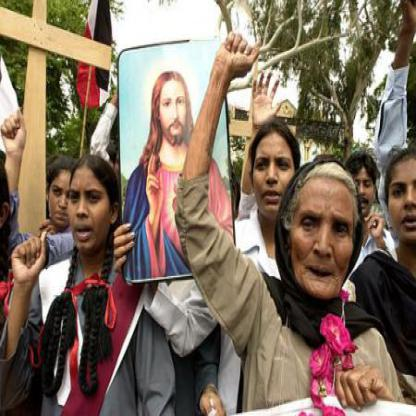face: (289, 165, 361, 301), (66, 158, 115, 253), (253, 124, 298, 220), (159, 73, 189, 143), (49, 162, 80, 227), (348, 157, 377, 216)
